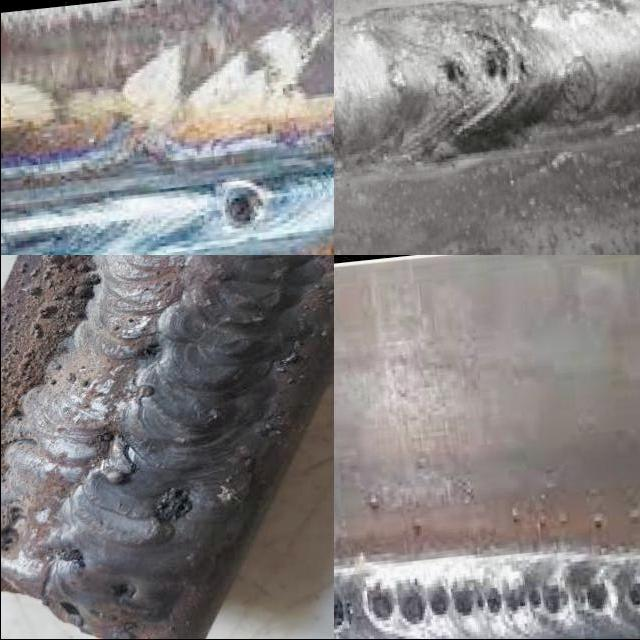defect: (357, 576, 575, 630), (478, 27, 535, 96), (217, 176, 269, 241), (434, 44, 471, 104), (144, 483, 194, 526), (580, 566, 617, 622), (97, 575, 143, 605), (47, 543, 88, 570), (623, 573, 640, 618), (138, 343, 161, 358)
